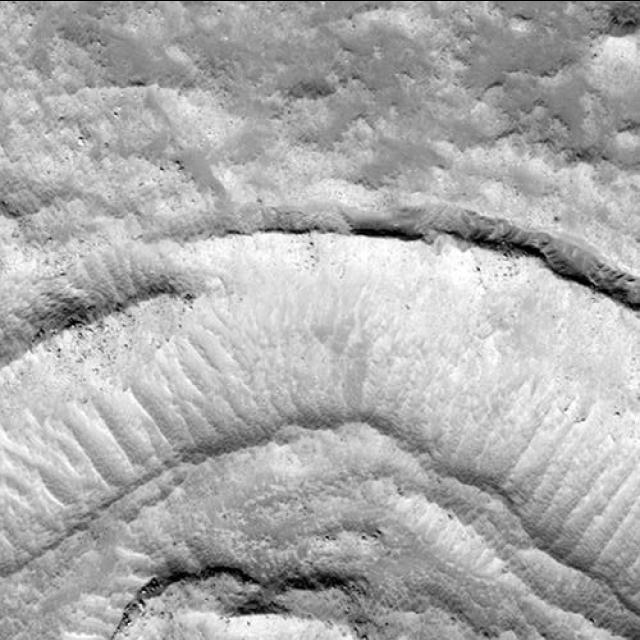crater: (0, 158, 640, 640)
